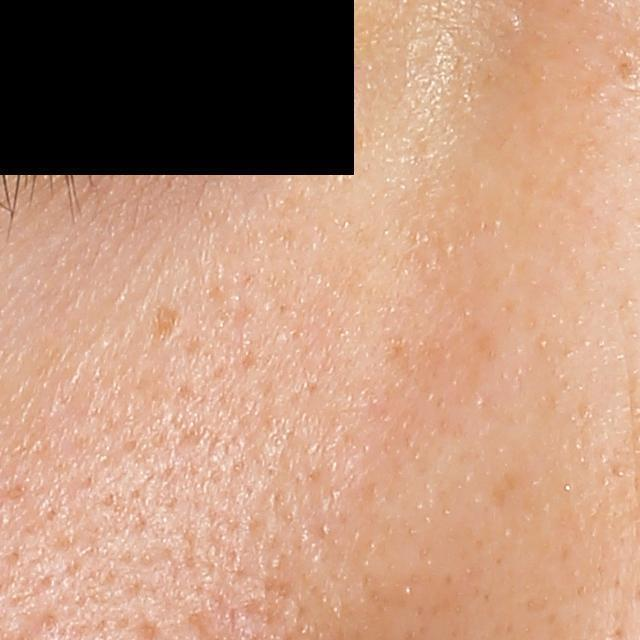melasma: (157, 306, 185, 343)
